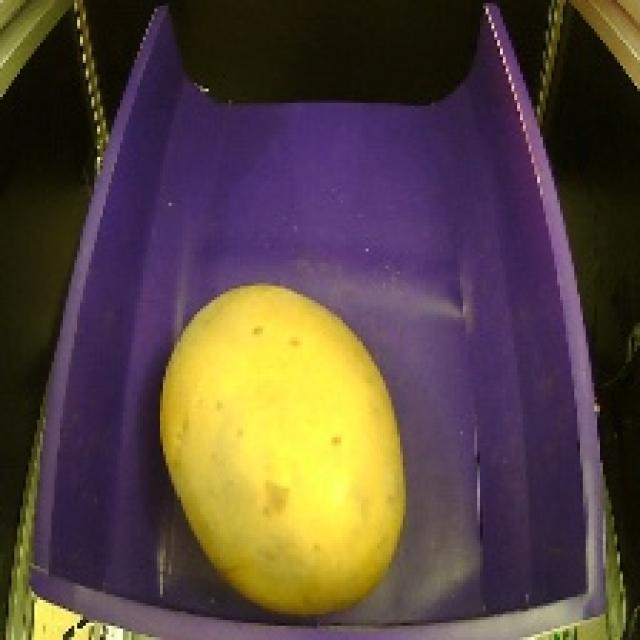full_potato: (154, 268, 415, 628)
